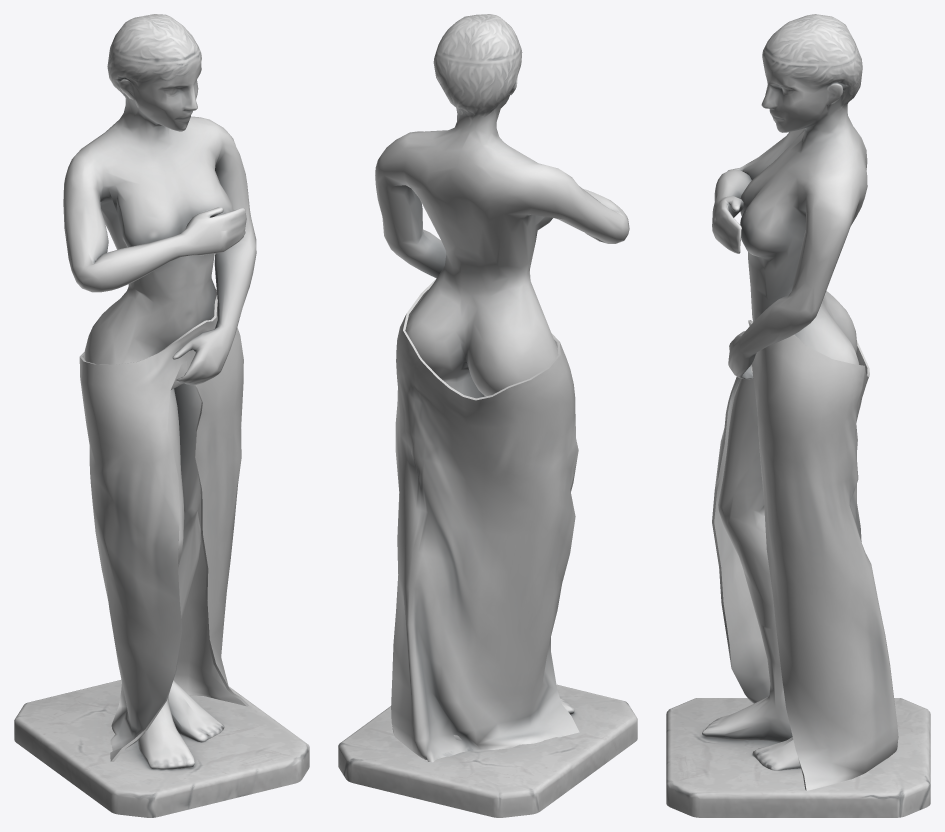
Rendered from ParkStatueGreek03.FBX.
3 views of the same model, side by side, from view 1: azimuth 30°, elevation 25°; view 2: azimuth 150°, elevation 25°; view 3: azimuth 270°, elevation 25° (orthographic). The views are drawn at different scales.
Parts seen in each view (by area): view 1: ParkStatueGreek03; view 2: ParkStatueGreek03; view 3: ParkStatueGreek03.
Boxes of the visible parts, left/top/right/bottom form: ParkStatueGreek03: left=14, top=14, right=309, bottom=817; ParkStatueGreek03: left=338, top=14, right=637, bottom=817; ParkStatueGreek03: left=666, top=14, right=930, bottom=817.
Size of what is drawn, in the model's own units: 0.8077 by 2.68 by 0.858.
